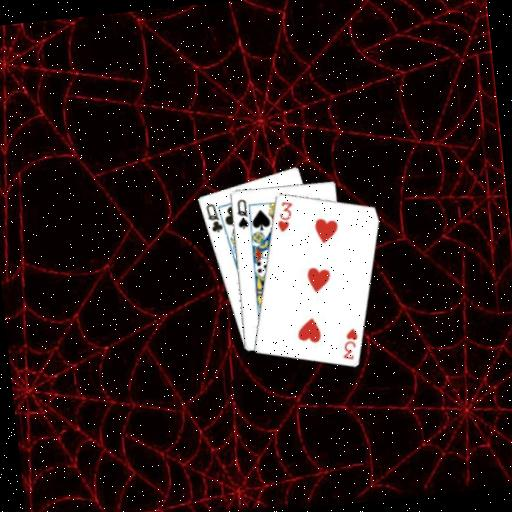3H: (336, 325, 361, 362), (273, 197, 297, 234)
QC: (202, 200, 224, 235)
QS: (232, 196, 250, 231)
